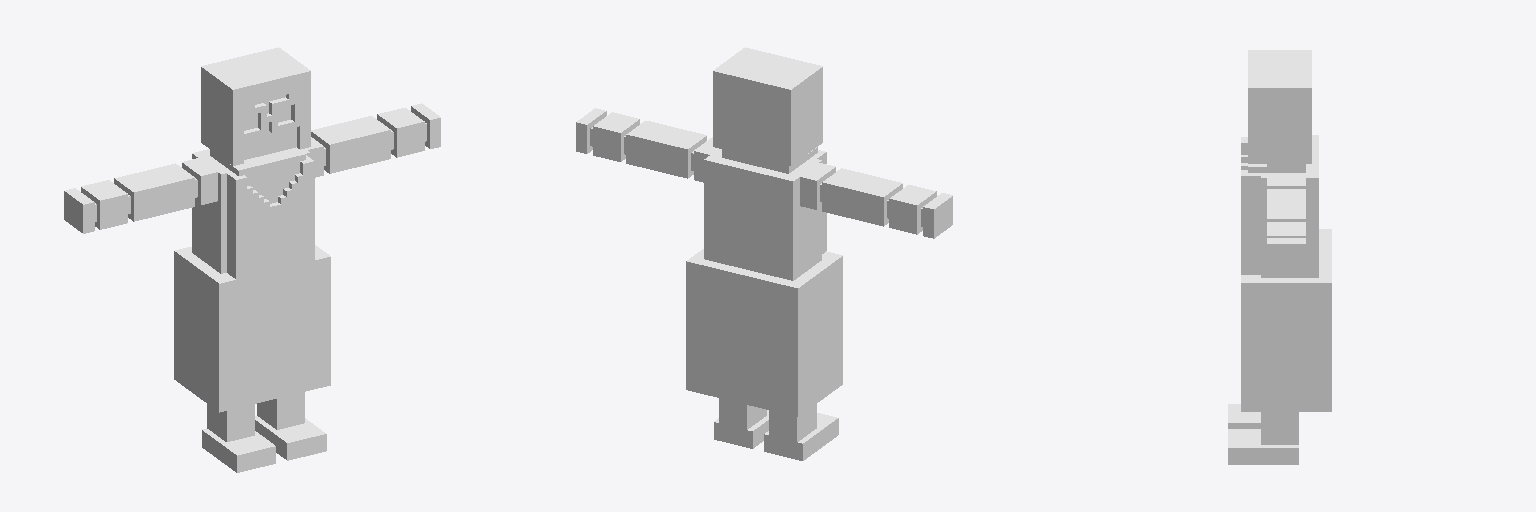
The model's file is GRANDMA-1.obj.
3 renders of one model, left to right at view 1: azimuth 30°, elevation 25°; view 2: azimuth 150°, elevation 25°; view 3: azimuth 270°, elevation 25°, orthographic.
Visible parts, largest first — view 1: GRANDMA-1; view 2: GRANDMA-1; view 3: GRANDMA-1.
Boxes of the visible parts, x1=… form: GRANDMA-1: x1=64, y1=47, x2=440, y2=472; GRANDMA-1: x1=576, y1=47, x2=952, y2=460; GRANDMA-1: x1=1228, y1=50, x2=1331, y2=464.
Bounding box in the file's own units: 64 × 64 × 16.